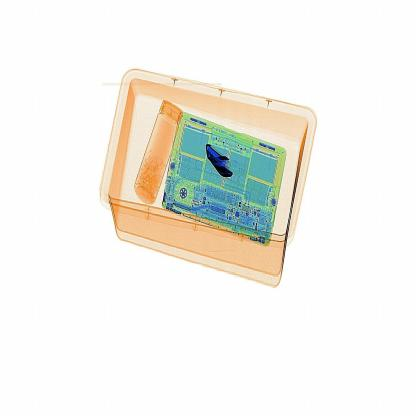pliers: (198, 131, 240, 183)
